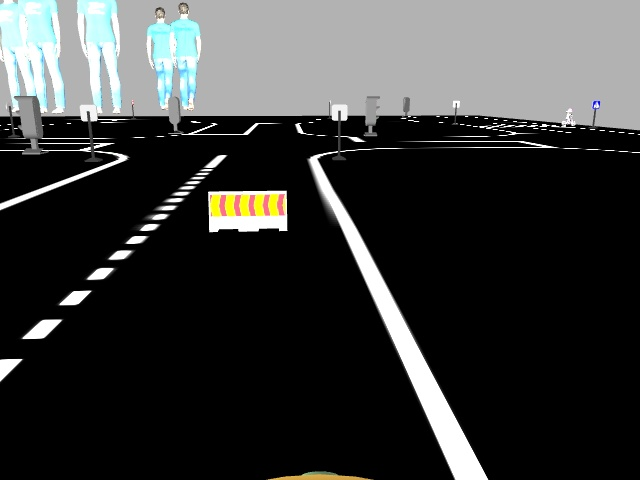ClosedRoadStand: (208, 193, 288, 229)
